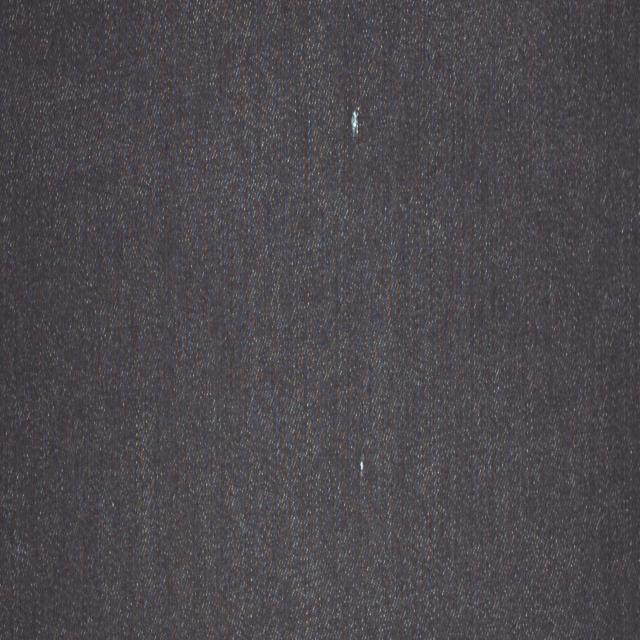Knot: (351, 109, 360, 138)
